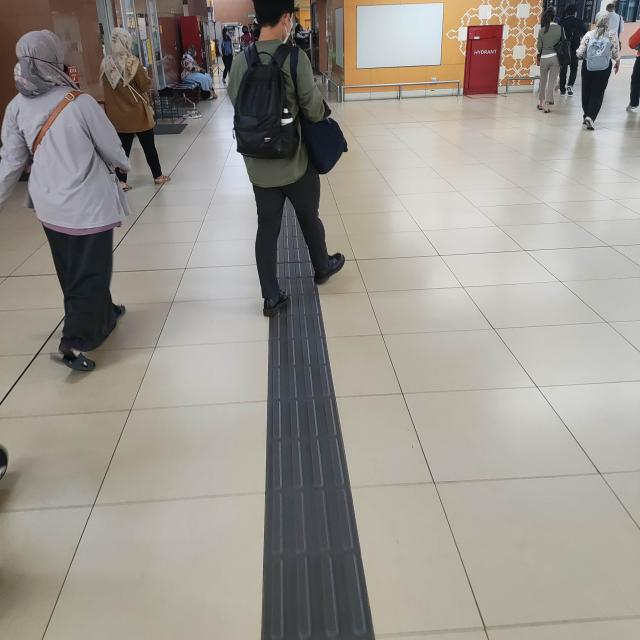lurus: (256, 315, 358, 640)
